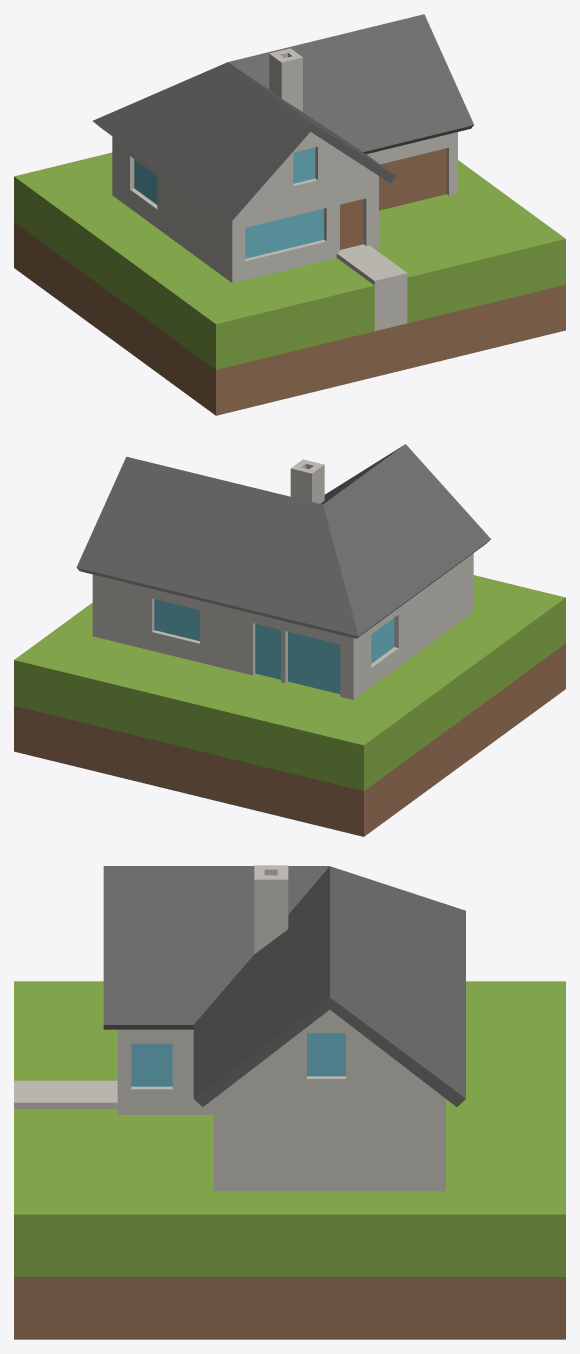
File: house-country.glb
The picture shows the model from 3 angles, top to bottom: view 1: azimuth 30°, elevation 25°; view 2: azimuth 150°, elevation 25°; view 3: azimuth 270°, elevation 25°; orthographic projection. The views are drawn at different scales.
Parts seen in each view (by area): view 1: house-country_Cube.026; view 2: house-country_Cube.026; view 3: house-country_Cube.026.
Part boxes in pixels (bbox=[...]): house-country_Cube.026: bbox=[14, 14, 565, 415]; house-country_Cube.026: bbox=[14, 444, 565, 836]; house-country_Cube.026: bbox=[14, 865, 565, 1339].
Size of the model in its own units: 8 by 5.49 by 8.
Materials: 1 (1 with a texture image).
